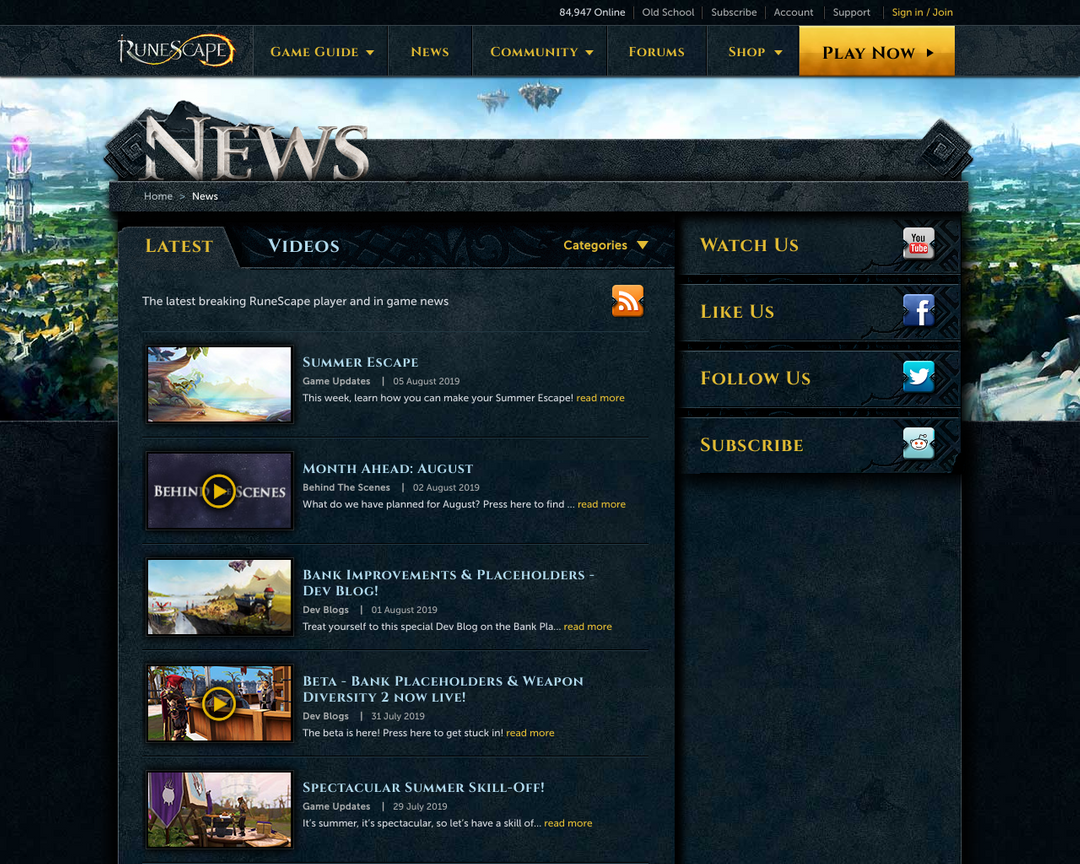Runescape: (111, 28, 238, 69)
